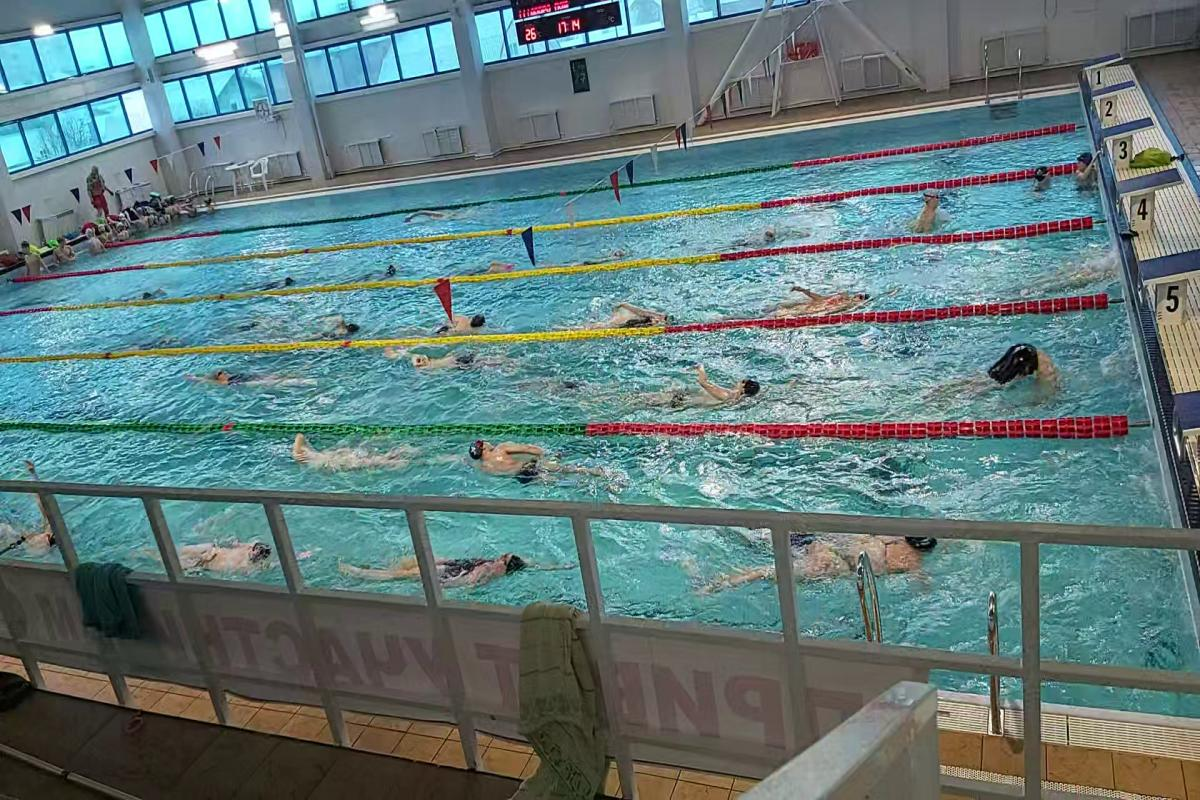swimmer: (709, 519, 942, 584), (347, 543, 565, 591), (463, 433, 593, 491), (968, 340, 1068, 414), (653, 356, 774, 414), (140, 531, 274, 580), (285, 423, 398, 481), (180, 361, 314, 399), (398, 340, 522, 376), (780, 272, 891, 312), (604, 294, 686, 326), (914, 184, 958, 237), (5, 517, 57, 556), (434, 308, 492, 338), (314, 310, 376, 338)
